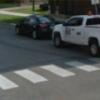crosswalks: (0, 57, 100, 94)
